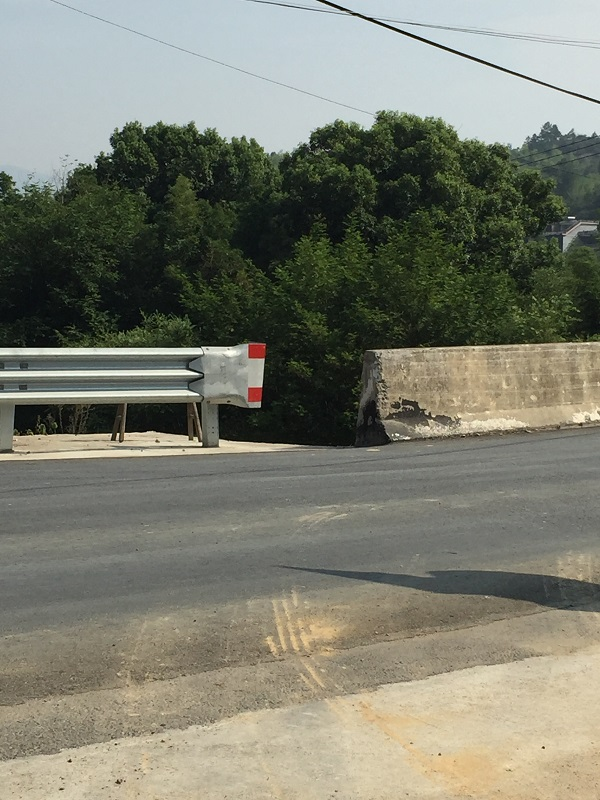damaged: (165, 323, 462, 452)
